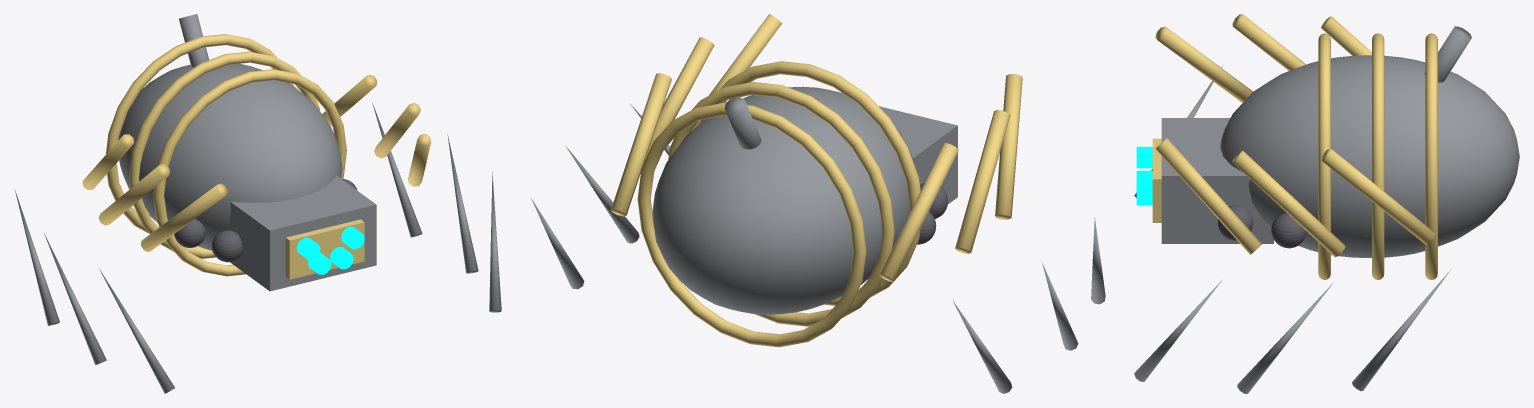
The model's file is enemy_skitter_scout.glb.
The picture shows the model from 3 angles, left to right: view 1: azimuth 30°, elevation 25°; view 2: azimuth 150°, elevation 25°; view 3: azimuth 270°, elevation 25°; orthographic projection. The views are drawn at different scales.
Visible parts, largest first — view 1: Sphere, Cube, Torus, Torus.001, Torus.002, Cube.001, Cylinder.005, Cylinder.006, Cone.004, Cone.001, Cone.002, Cone.003 (+9 smaller); view 2: Sphere, Torus.002, Torus.001, Torus, Cube, Cylinder.006, Cylinder.010, Cylinder.007, Cylinder.005, Cylinder.009, Cylinder.008, Cylinder.004 (+5 smaller); view 3: Sphere, Cube, Torus.002, Torus.001, Torus, Cylinder.008, Cylinder.009, Cylinder.010, Cylinder.005, Cylinder.006, Cone.005, Cone.004 (+8 smaller).
Boxes of the visible parts, left/top/right/bottom form: Sphere: left=118, top=63, right=342, bottom=250; Cube: left=227, top=175, right=376, bottom=291; Torus: left=153, top=69, right=346, bottom=276; Torus.001: left=129, top=51, right=320, bottom=258; Torus.002: left=105, top=34, right=293, bottom=233; Cube.001: left=285, top=219, right=364, bottom=279; Cylinder.005: left=141, top=183, right=227, bottom=251; Cylinder.006: left=98, top=164, right=170, bottom=225; Cone.004: left=447, top=135, right=478, bottom=273; Cone.001: left=44, top=233, right=106, bottom=364; Cone.002: left=14, top=189, right=59, bottom=325; Cone.003: left=489, top=171, right=501, bottom=312; Sphere: left=652, top=86, right=914, bottom=314; Torus.002: left=637, top=102, right=866, bottom=347; Torus.001: left=668, top=82, right=894, bottom=326; Torus: left=699, top=61, right=920, bottom=305; Cube: left=878, top=106, right=957, bottom=203; Cylinder.006: left=955, top=110, right=1010, bottom=253; Cylinder.010: left=611, top=73, right=671, bottom=216; Cylinder.007: left=879, top=142, right=958, bottom=282; Cylinder.005: left=995, top=74, right=1022, bottom=219; Cylinder.009: left=645, top=37, right=714, bottom=159; Cylinder.008: left=691, top=14, right=782, bottom=131; Cylinder.004: left=724, top=97, right=761, bottom=149; Sphere: left=1220, top=55, right=1519, bottom=257; Cube: left=1161, top=118, right=1273, bottom=243; Torus.002: left=1425, top=33, right=1437, bottom=279; Torus.001: left=1372, top=33, right=1384, bottom=279; Torus: left=1318, top=33, right=1330, bottom=279; Cylinder.008: left=1155, top=138, right=1261, bottom=254; Cylinder.009: left=1232, top=150, right=1345, bottom=257; Cylinder.010: left=1321, top=148, right=1435, bottom=244; Cylinder.005: left=1155, top=26, right=1253, bottom=102; Cylinder.006: left=1232, top=14, right=1305, bottom=70; Cone.005: left=1352, top=270, right=1450, bottom=391; Cone.004: left=1237, top=282, right=1333, bottom=393.
Size of the model in its own units: 2.92 by 1.63 by 2.16.
